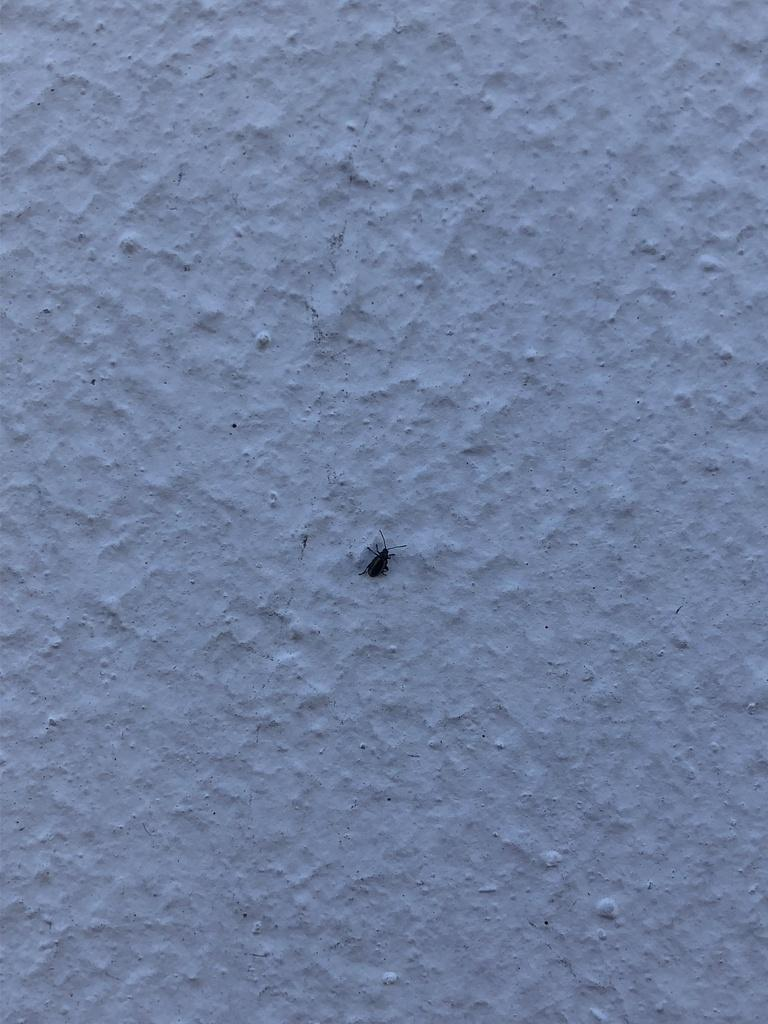flea_beetle: (349, 512, 415, 595)
